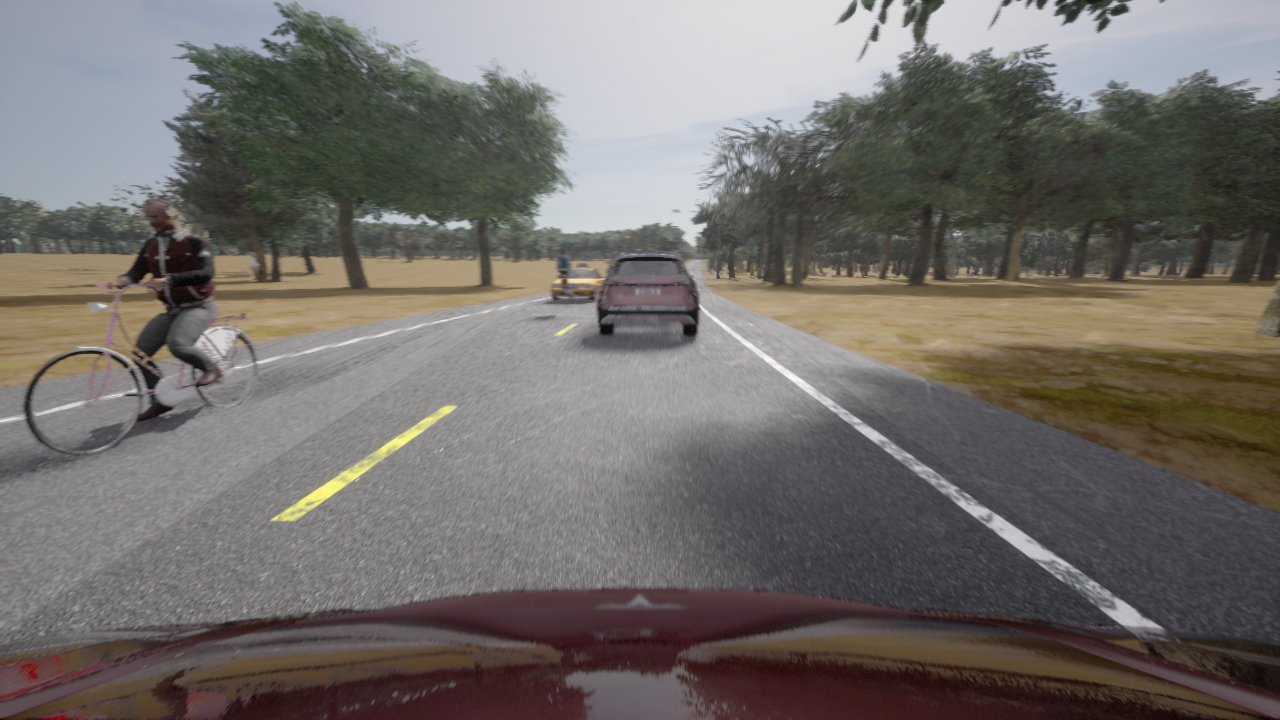cyclist: (0, 588, 1279, 719), (23, 283, 256, 455), (597, 251, 699, 336), (551, 265, 604, 301), (682, 262, 685, 266)
pedestrian: (557, 250, 570, 290), (248, 250, 257, 279)
